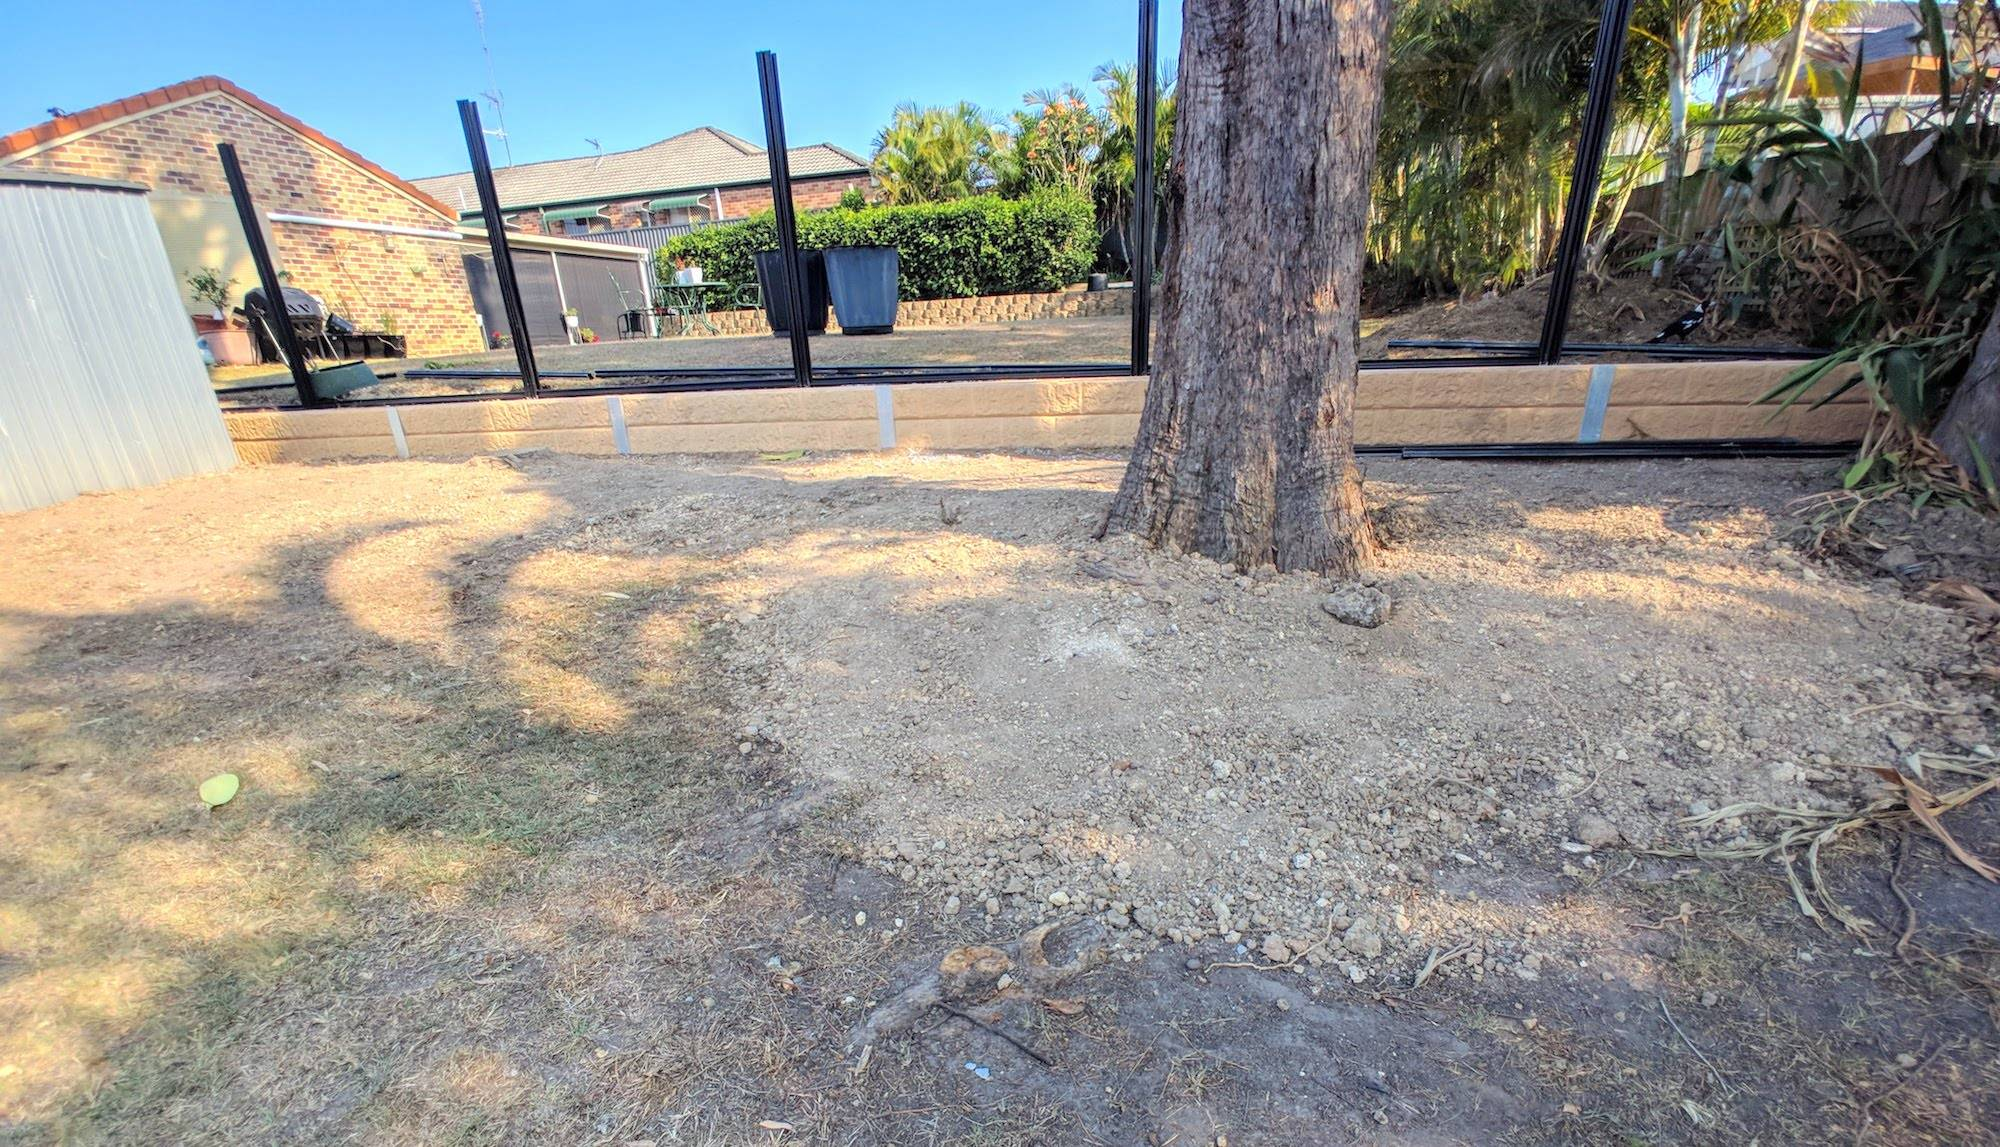dirt: (25, 577, 1973, 1135), (21, 451, 1104, 562), (1391, 457, 1828, 562)
tree: (1126, 10, 1378, 566)
